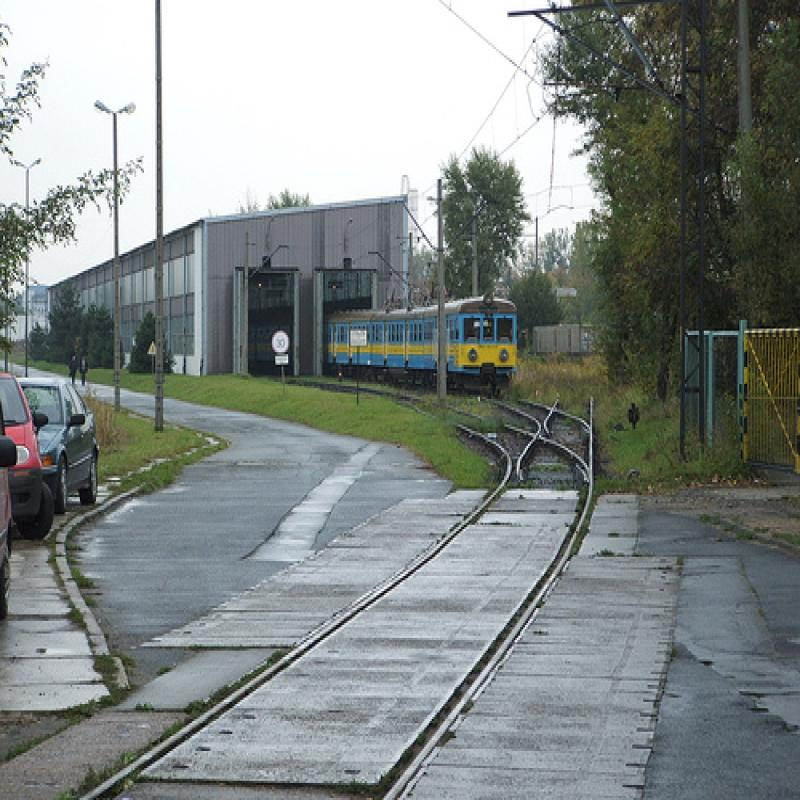train: (244, 283, 521, 396)
